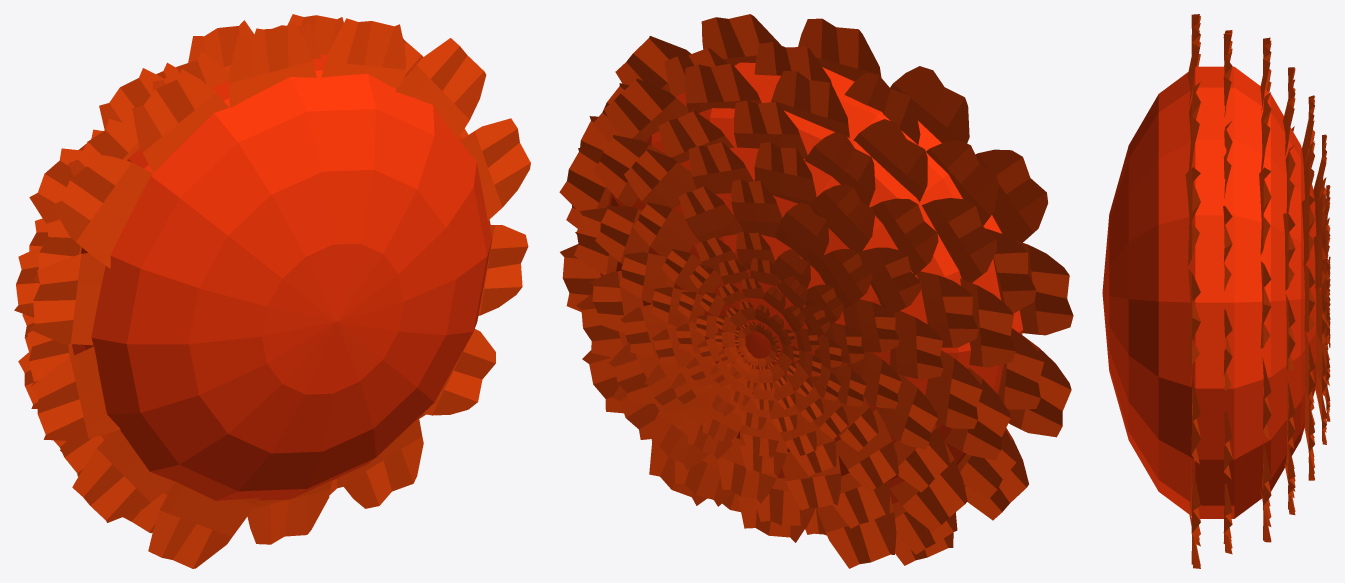
The model's file is ofrenda_flor.obj.
3 views of the same model, side by side, from view 1: azimuth 30°, elevation 25°; view 2: azimuth 150°, elevation 25°; view 3: azimuth 270°, elevation 25° (orthographic). The views are drawn at different scales.
Visible parts, largest first — view 1: ofrenda_flor; view 2: ofrenda_flor; view 3: ofrenda_flor.
Boxes of the visible parts, <box> form: ofrenda_flor: <box>14,14,530,568</box>; ofrenda_flor: <box>559,14,1073,568</box>; ofrenda_flor: <box>1102,14,1330,568</box>.
Size of the model in its own units: 0.0457 by 0.0458 by 0.0189.
